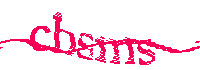b: (52, 10, 76, 57)
c: (29, 25, 52, 53)
m: (95, 35, 135, 66)
s: (136, 37, 155, 68), (77, 31, 95, 62)
